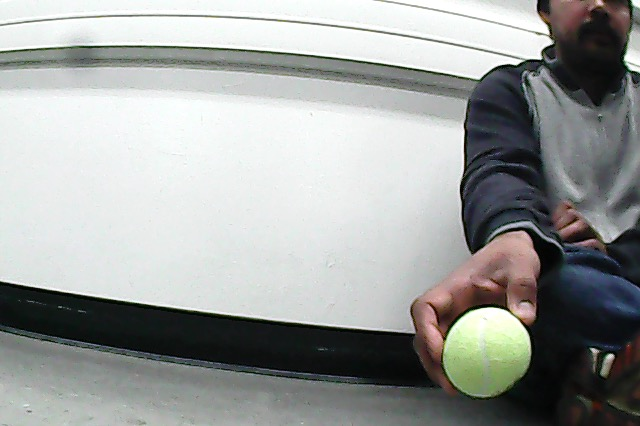ball: (438, 301, 536, 400)
